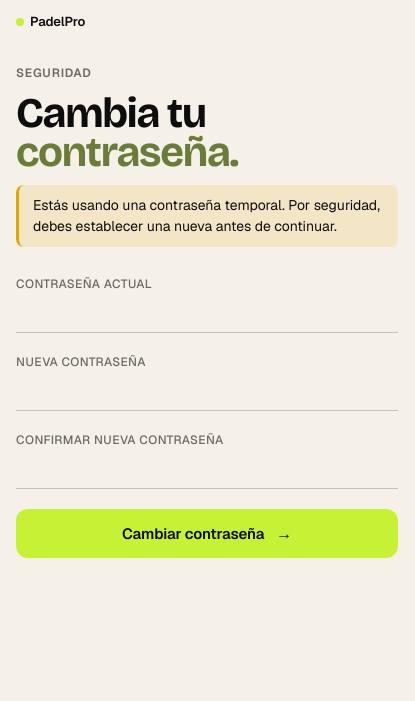
Test: ChangePasswordPage › shows an error when current password is wrong (401)
The width and height of the screenshot is (415, 701).
Type "WrongCurrent" into the password field labelled "Contraseña actual" at (207, 315), box [16, 297, 398, 333]
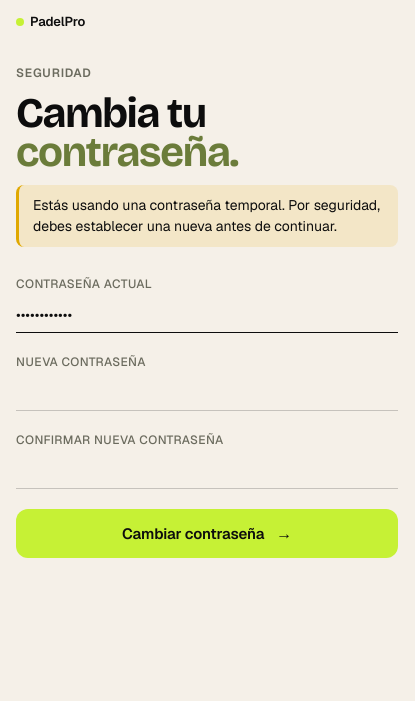
Type "NewPass123" into the password field labelled "Nueva contraseña" at (207, 393), box [16, 375, 398, 411]
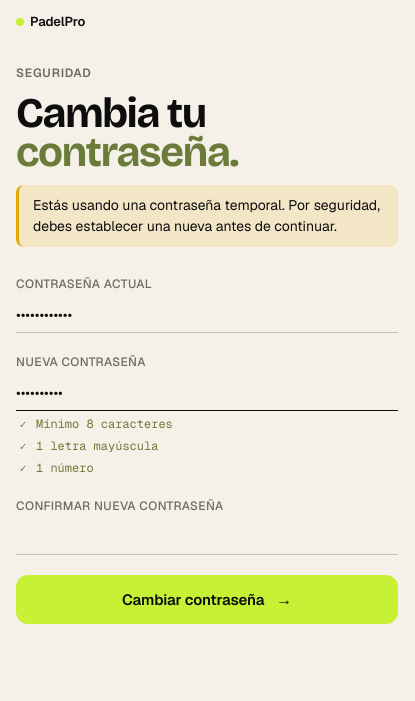
Type "NewPass123" into the password field labelled "Confirmar nueva contraseña" at (207, 537), box [16, 519, 398, 555]
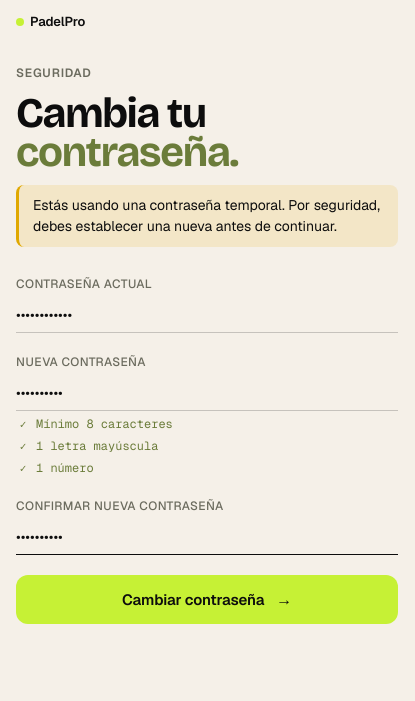
Click the button "Cambiar contraseña →" at (207, 600), box [16, 575, 398, 624]
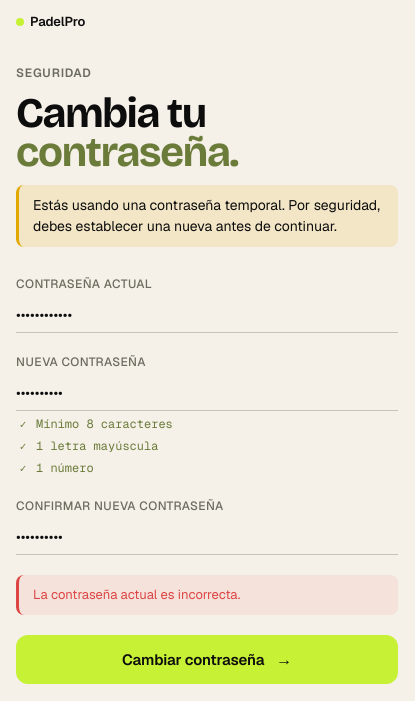
Expected: the message reads "La contraseña actual es incorrecta.", [33, 586, 240, 603]
